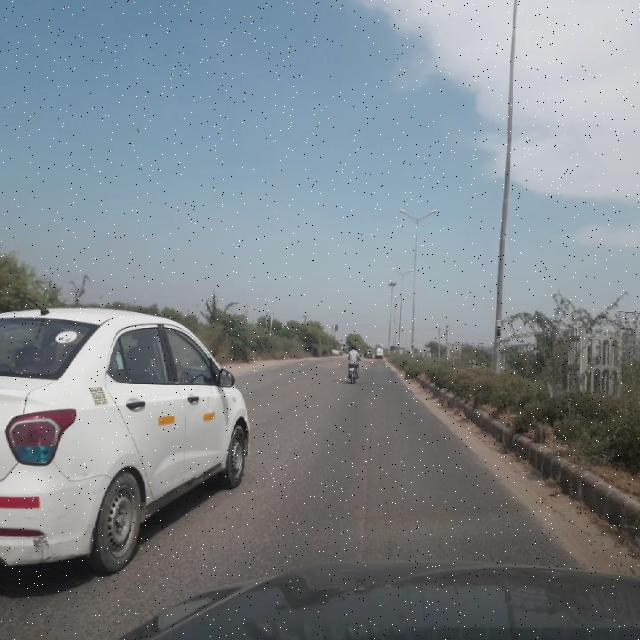D00: (357, 412, 377, 556)
